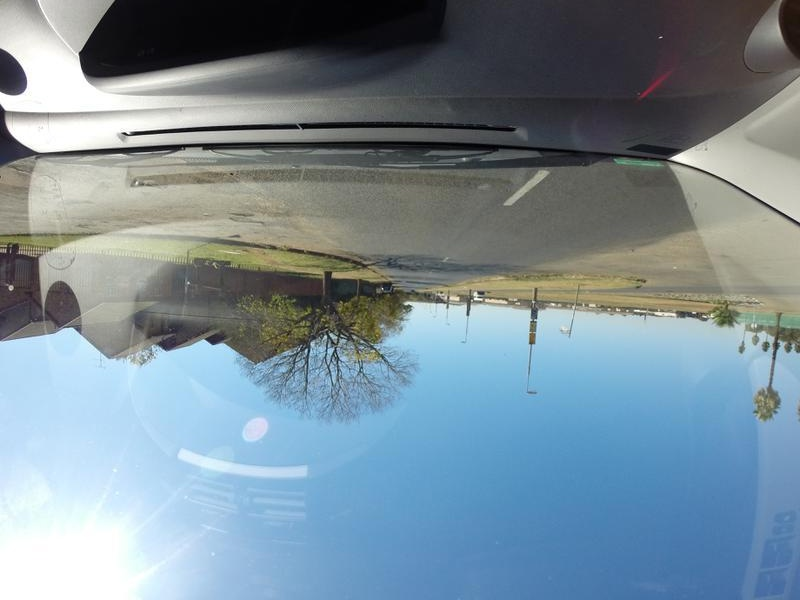pothole: (74, 223, 103, 231), (235, 219, 272, 224), (232, 210, 260, 215)
